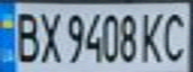0: (103, 9, 121, 63)
4: (84, 9, 106, 64)
8: (118, 10, 142, 64)
9: (60, 8, 84, 64)
B: (6, 7, 42, 63)
C: (157, 7, 193, 64)
K: (136, 8, 169, 64)
X: (33, 7, 63, 64)
